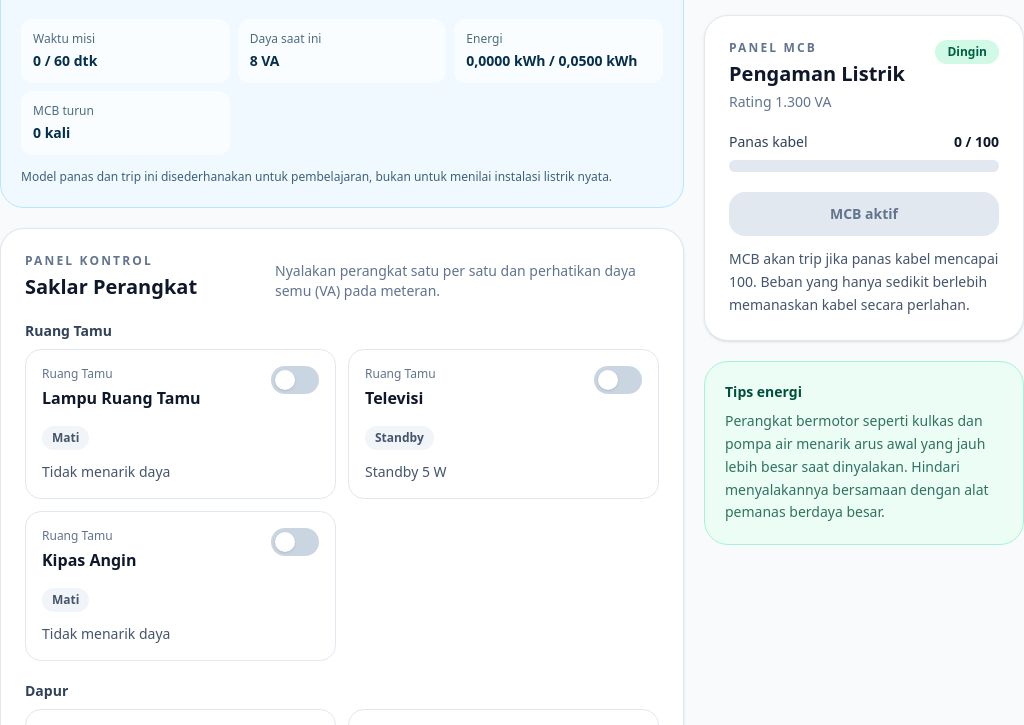
Scenario: SimulationDashboard › menghubungkan saklar perangkat ke meteran PLN
(page scrolled)
What coordinates should you click on to do the following:
click the switch named "Nyalakan Televisi"
I would click on:
 (618, 380)
Its box is [594,366,642,394].
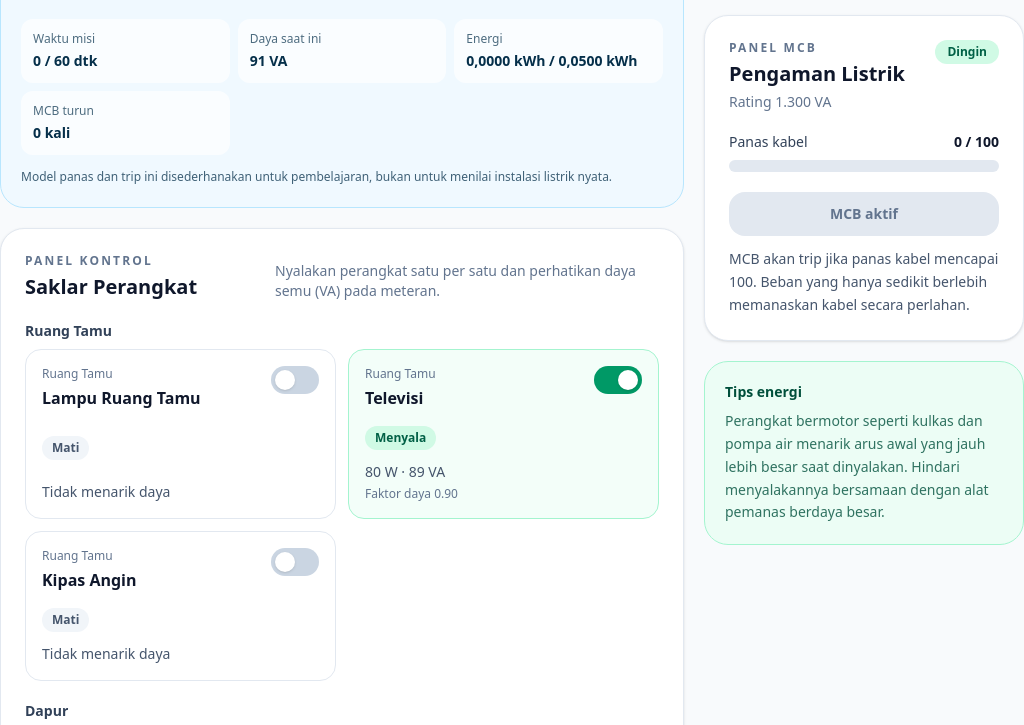
Now the switch named "Matikan Televisi" is checked
What coordinates should you click on to do the following:
click the switch named "Matikan Televisi"
I would click on:
 (618, 380)
Its box is [594,366,642,394].
(page scrolled)
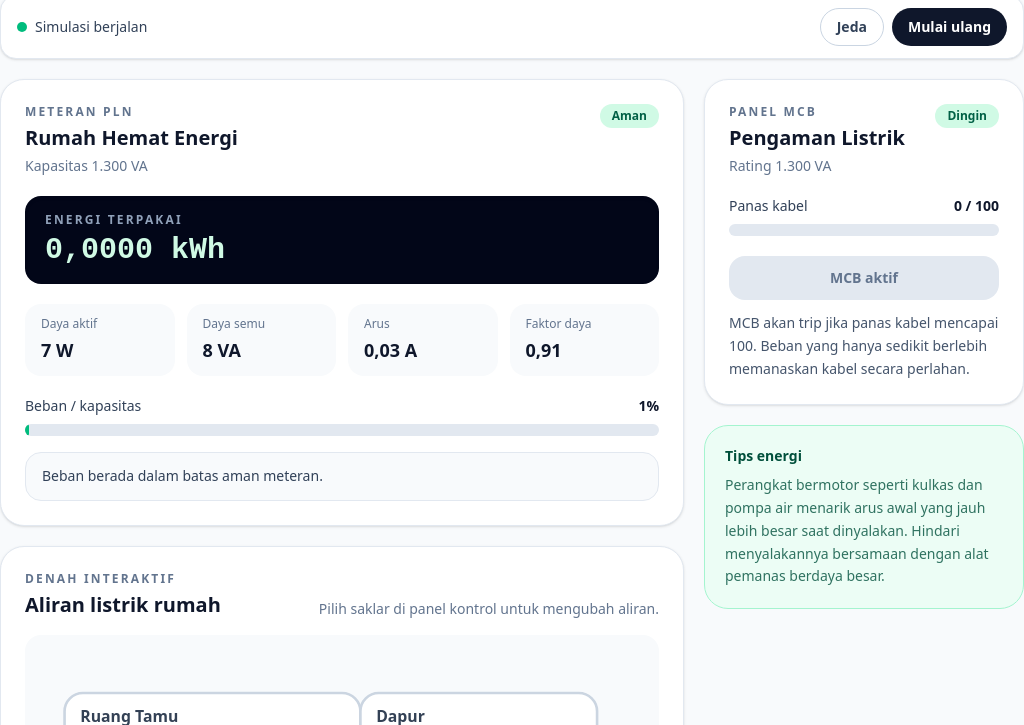
Now the text "7 W" is shown, box [41,338,73,362]
